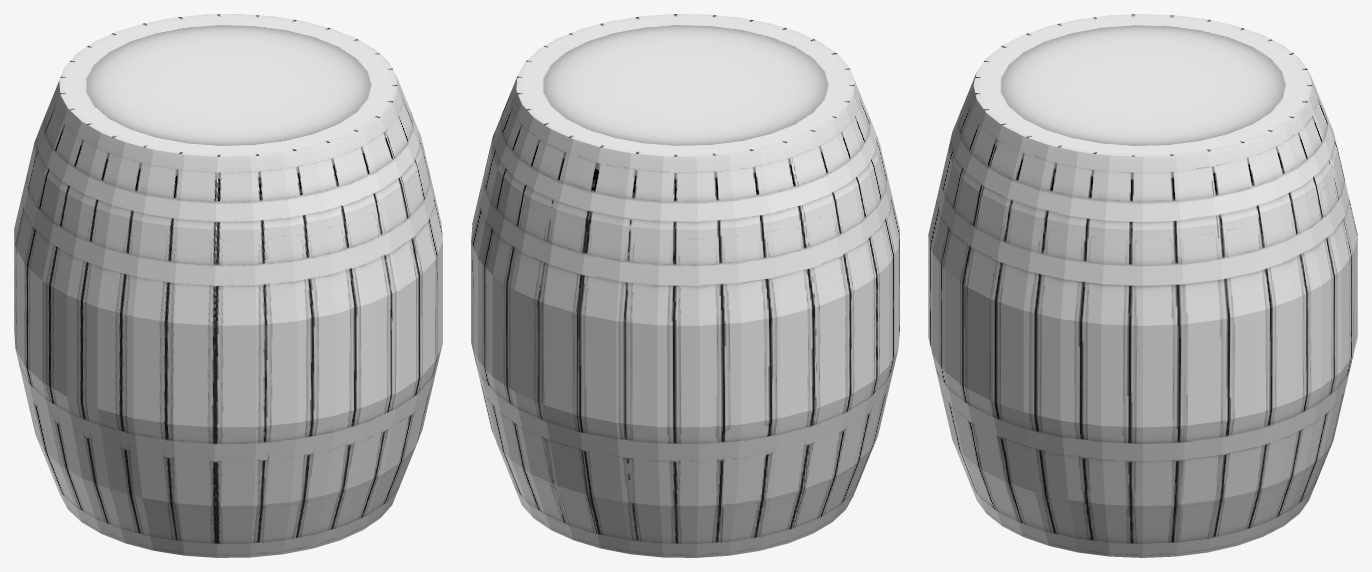
File: High poly barrel.fbx
3 views of the same model, side by side, from view 1: azimuth 30°, elevation 25°; view 2: azimuth 150°, elevation 25°; view 3: azimuth 270°, elevation 25° (orthographic).
Parts seen in each view (by area): view 1: Lowpoly barrel; view 2: Lowpoly barrel; view 3: Lowpoly barrel.
Part boxes in pixels (x1,y1,x2,y2): Lowpoly barrel: [14, 14, 442, 557]; Lowpoly barrel: [471, 14, 899, 557]; Lowpoly barrel: [928, 14, 1357, 557].
Bounding box in the file's own units: 270 × 278 × 270.
Materials: 1 (1 with a texture image).
